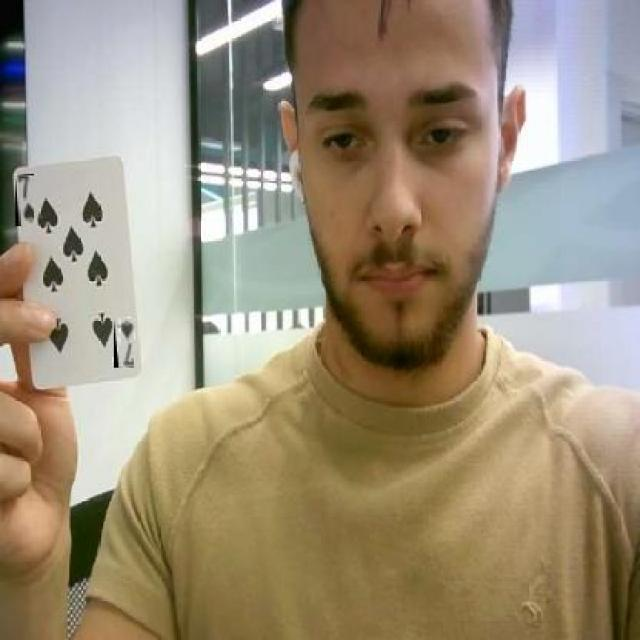7S: (114, 318, 134, 368), (15, 175, 34, 227)
